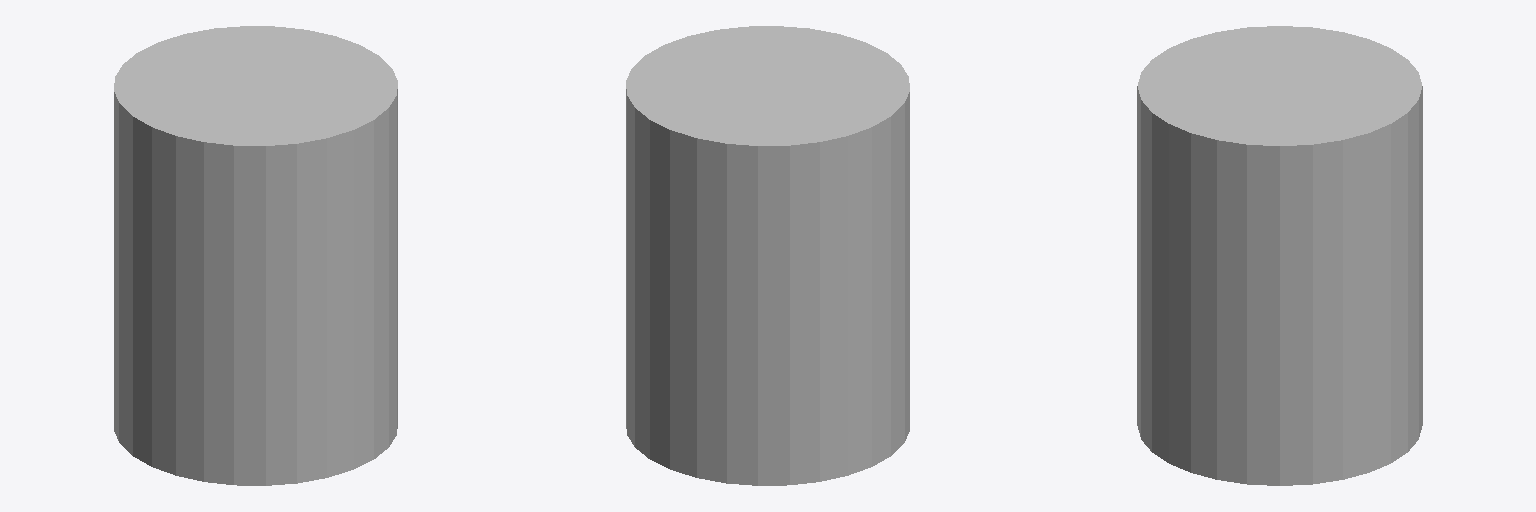
The model's file is income.obj.
3 views of the same model, side by side, from view 1: azimuth 30°, elevation 25°; view 2: azimuth 150°, elevation 25°; view 3: azimuth 270°, elevation 25° (orthographic).
Visible parts, largest first — view 1: Circle001; view 2: Circle001; view 3: Circle001.
Boxes of the visible parts, <box> form: Circle001: <box>114,26,397,485</box>; Circle001: <box>626,26,909,485</box>; Circle001: <box>1137,26,1422,485</box>.
Bounding box in the file's own units: 1.37 × 1.8 × 1.37.